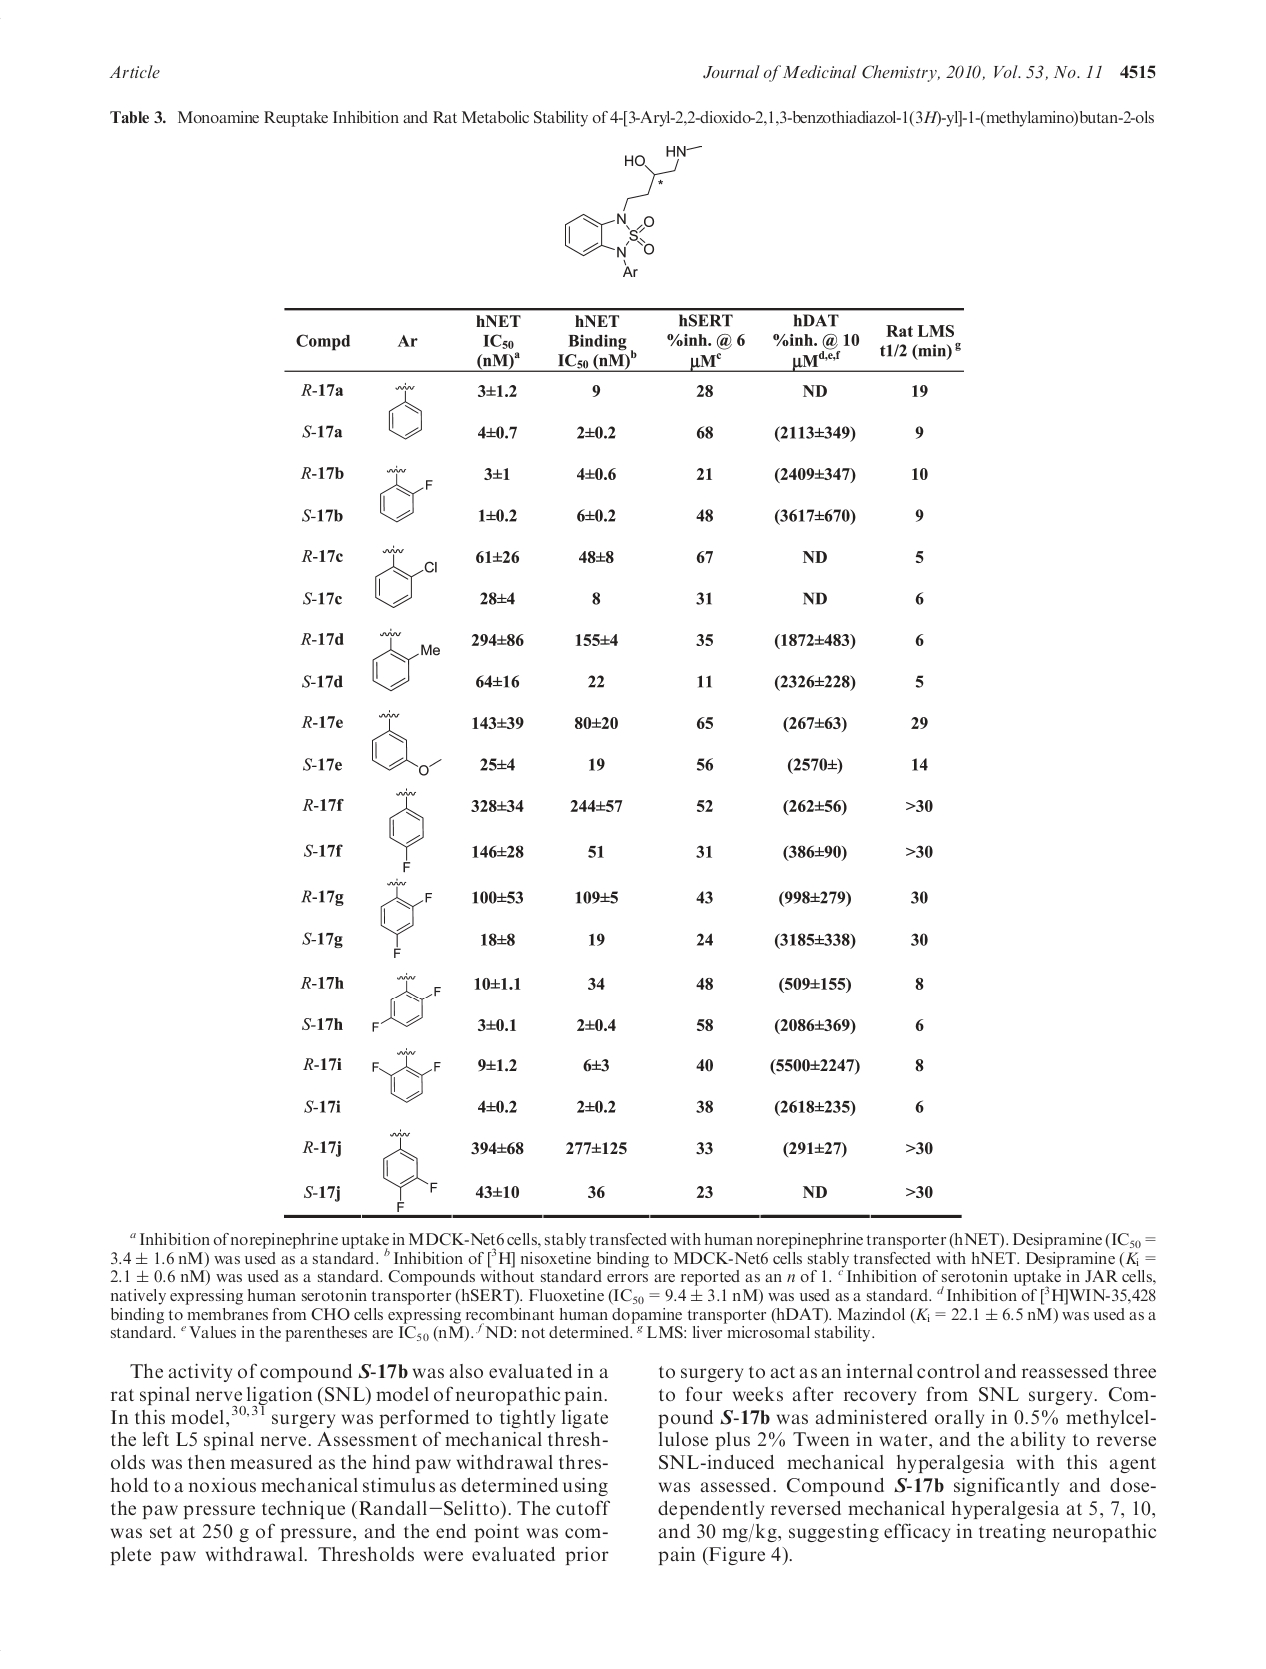exist_molecular: (563, 140, 703, 285), (364, 707, 455, 779), (372, 789, 448, 874), (364, 965, 448, 1037), (372, 1132, 443, 1214), (374, 875, 438, 963), (367, 626, 445, 697), (367, 540, 445, 609), (371, 461, 439, 527), (364, 1049, 445, 1097), (388, 379, 438, 442)
